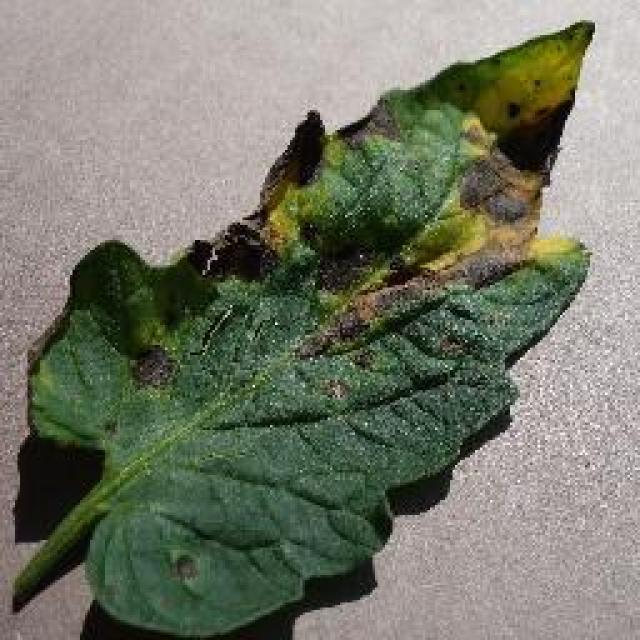Tomato Early blight leaf: (20, 25, 582, 633)
